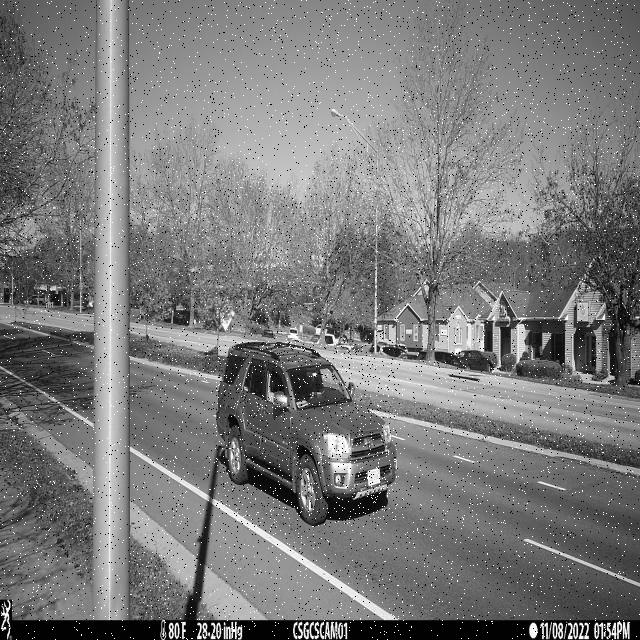SUV: (216, 342, 397, 527)
